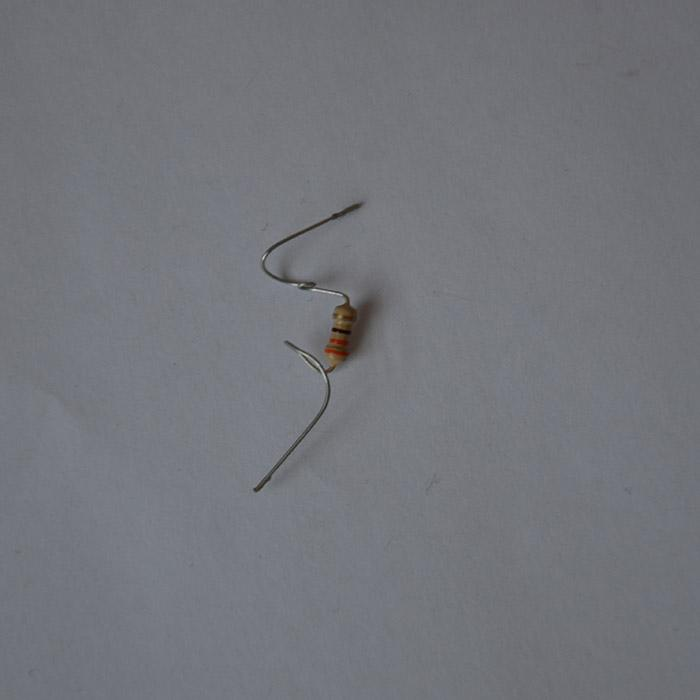resistor: (323, 301, 357, 369)
